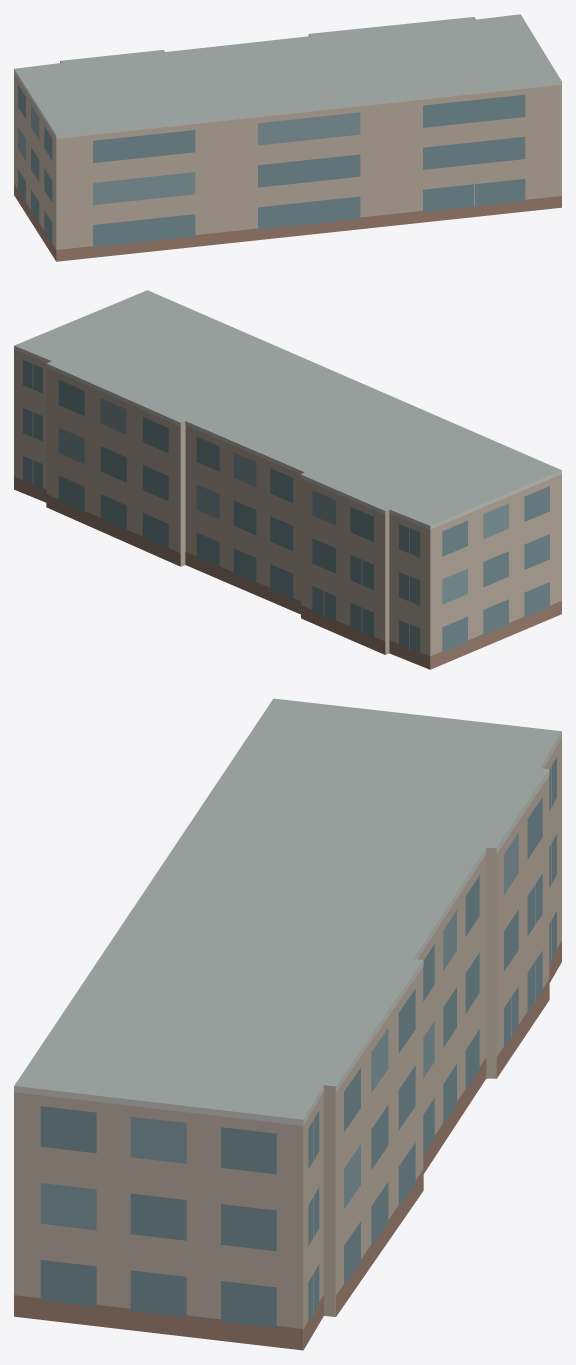
The model's file is survey-upis-32980307.glb.
The picture shows the model from 3 angles, top to bottom: view 1: azimuth 30°, elevation 25°; view 2: azimuth 150°, elevation 25°; view 3: azimuth 270°, elevation 25°; orthographic projection. The views are drawn at different scales.
Parts seen in each view (by area): view 1: survey-upis-32980307.tmp; view 2: survey-upis-32980307.tmp; view 3: survey-upis-32980307.tmp.
Part boxes in pixels (x1,y1,x2,y2): survey-upis-32980307.tmp: (14, 14, 561, 261); survey-upis-32980307.tmp: (14, 290, 561, 669); survey-upis-32980307.tmp: (14, 698, 561, 1350).
Size of the model in its own units: 35.85 by 9.15 by 19.7.
